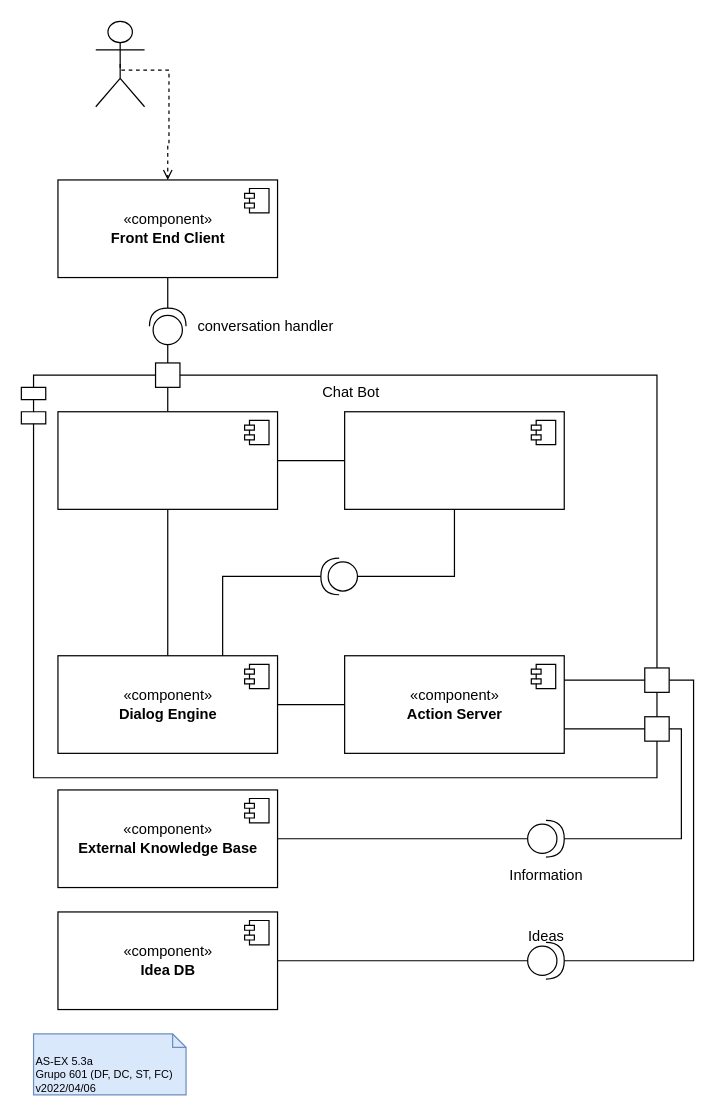
Some shapes in this 716 by 1116 pixel diagram are drawn without their labels. Here are the shapes that lost their labels. From the top down, the box of each, then its label:
(95, 20, 145, 107): USERS
(57, 411, 278, 509): «component» Conversion Manager
(343, 411, 564, 509): «component» NLU Module
